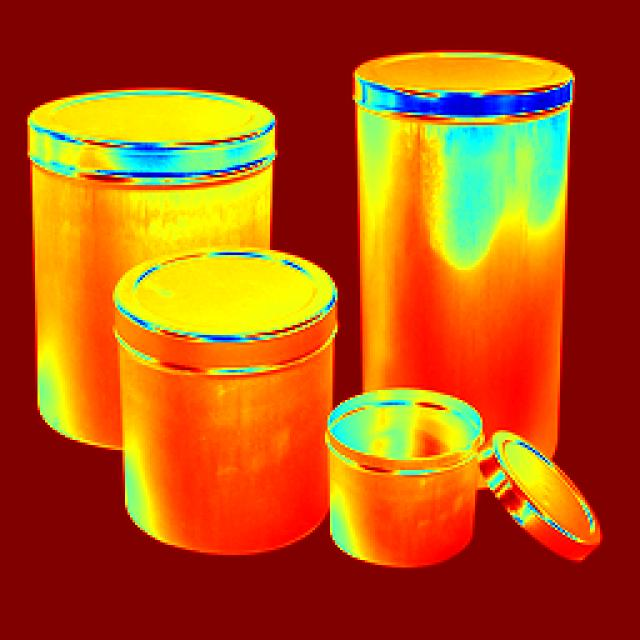Aluminium Food Cans: (344, 36, 596, 416), (97, 248, 339, 590), (302, 350, 560, 585), (32, 83, 294, 300)
